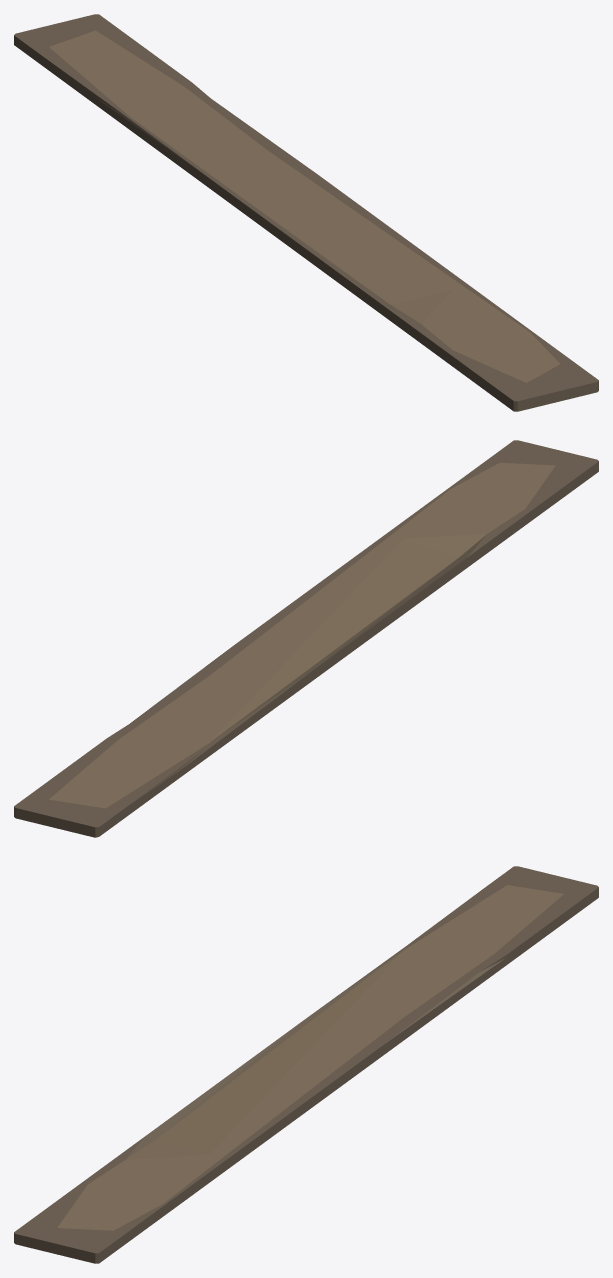
Rendered from model_wood_plank.fbx.
3 renders of one model, top to bottom at view 1: azimuth 30°, elevation 25°; view 2: azimuth 150°, elevation 25°; view 3: azimuth 330°, elevation 25°, orthographic.
Parts seen in each view (by area): view 1: model_wood_plank; view 2: model_wood_plank; view 3: model_wood_plank.
Part boxes in pixels (box(x1,y1,x2,y2)): model_wood_plank: box(14, 14, 598, 411); model_wood_plank: box(14, 440, 598, 837); model_wood_plank: box(14, 866, 598, 1263).
Bounding box in the file's own units: 40.02 × 4.69 × 409.
Materials: 1 (1 with a texture image).
